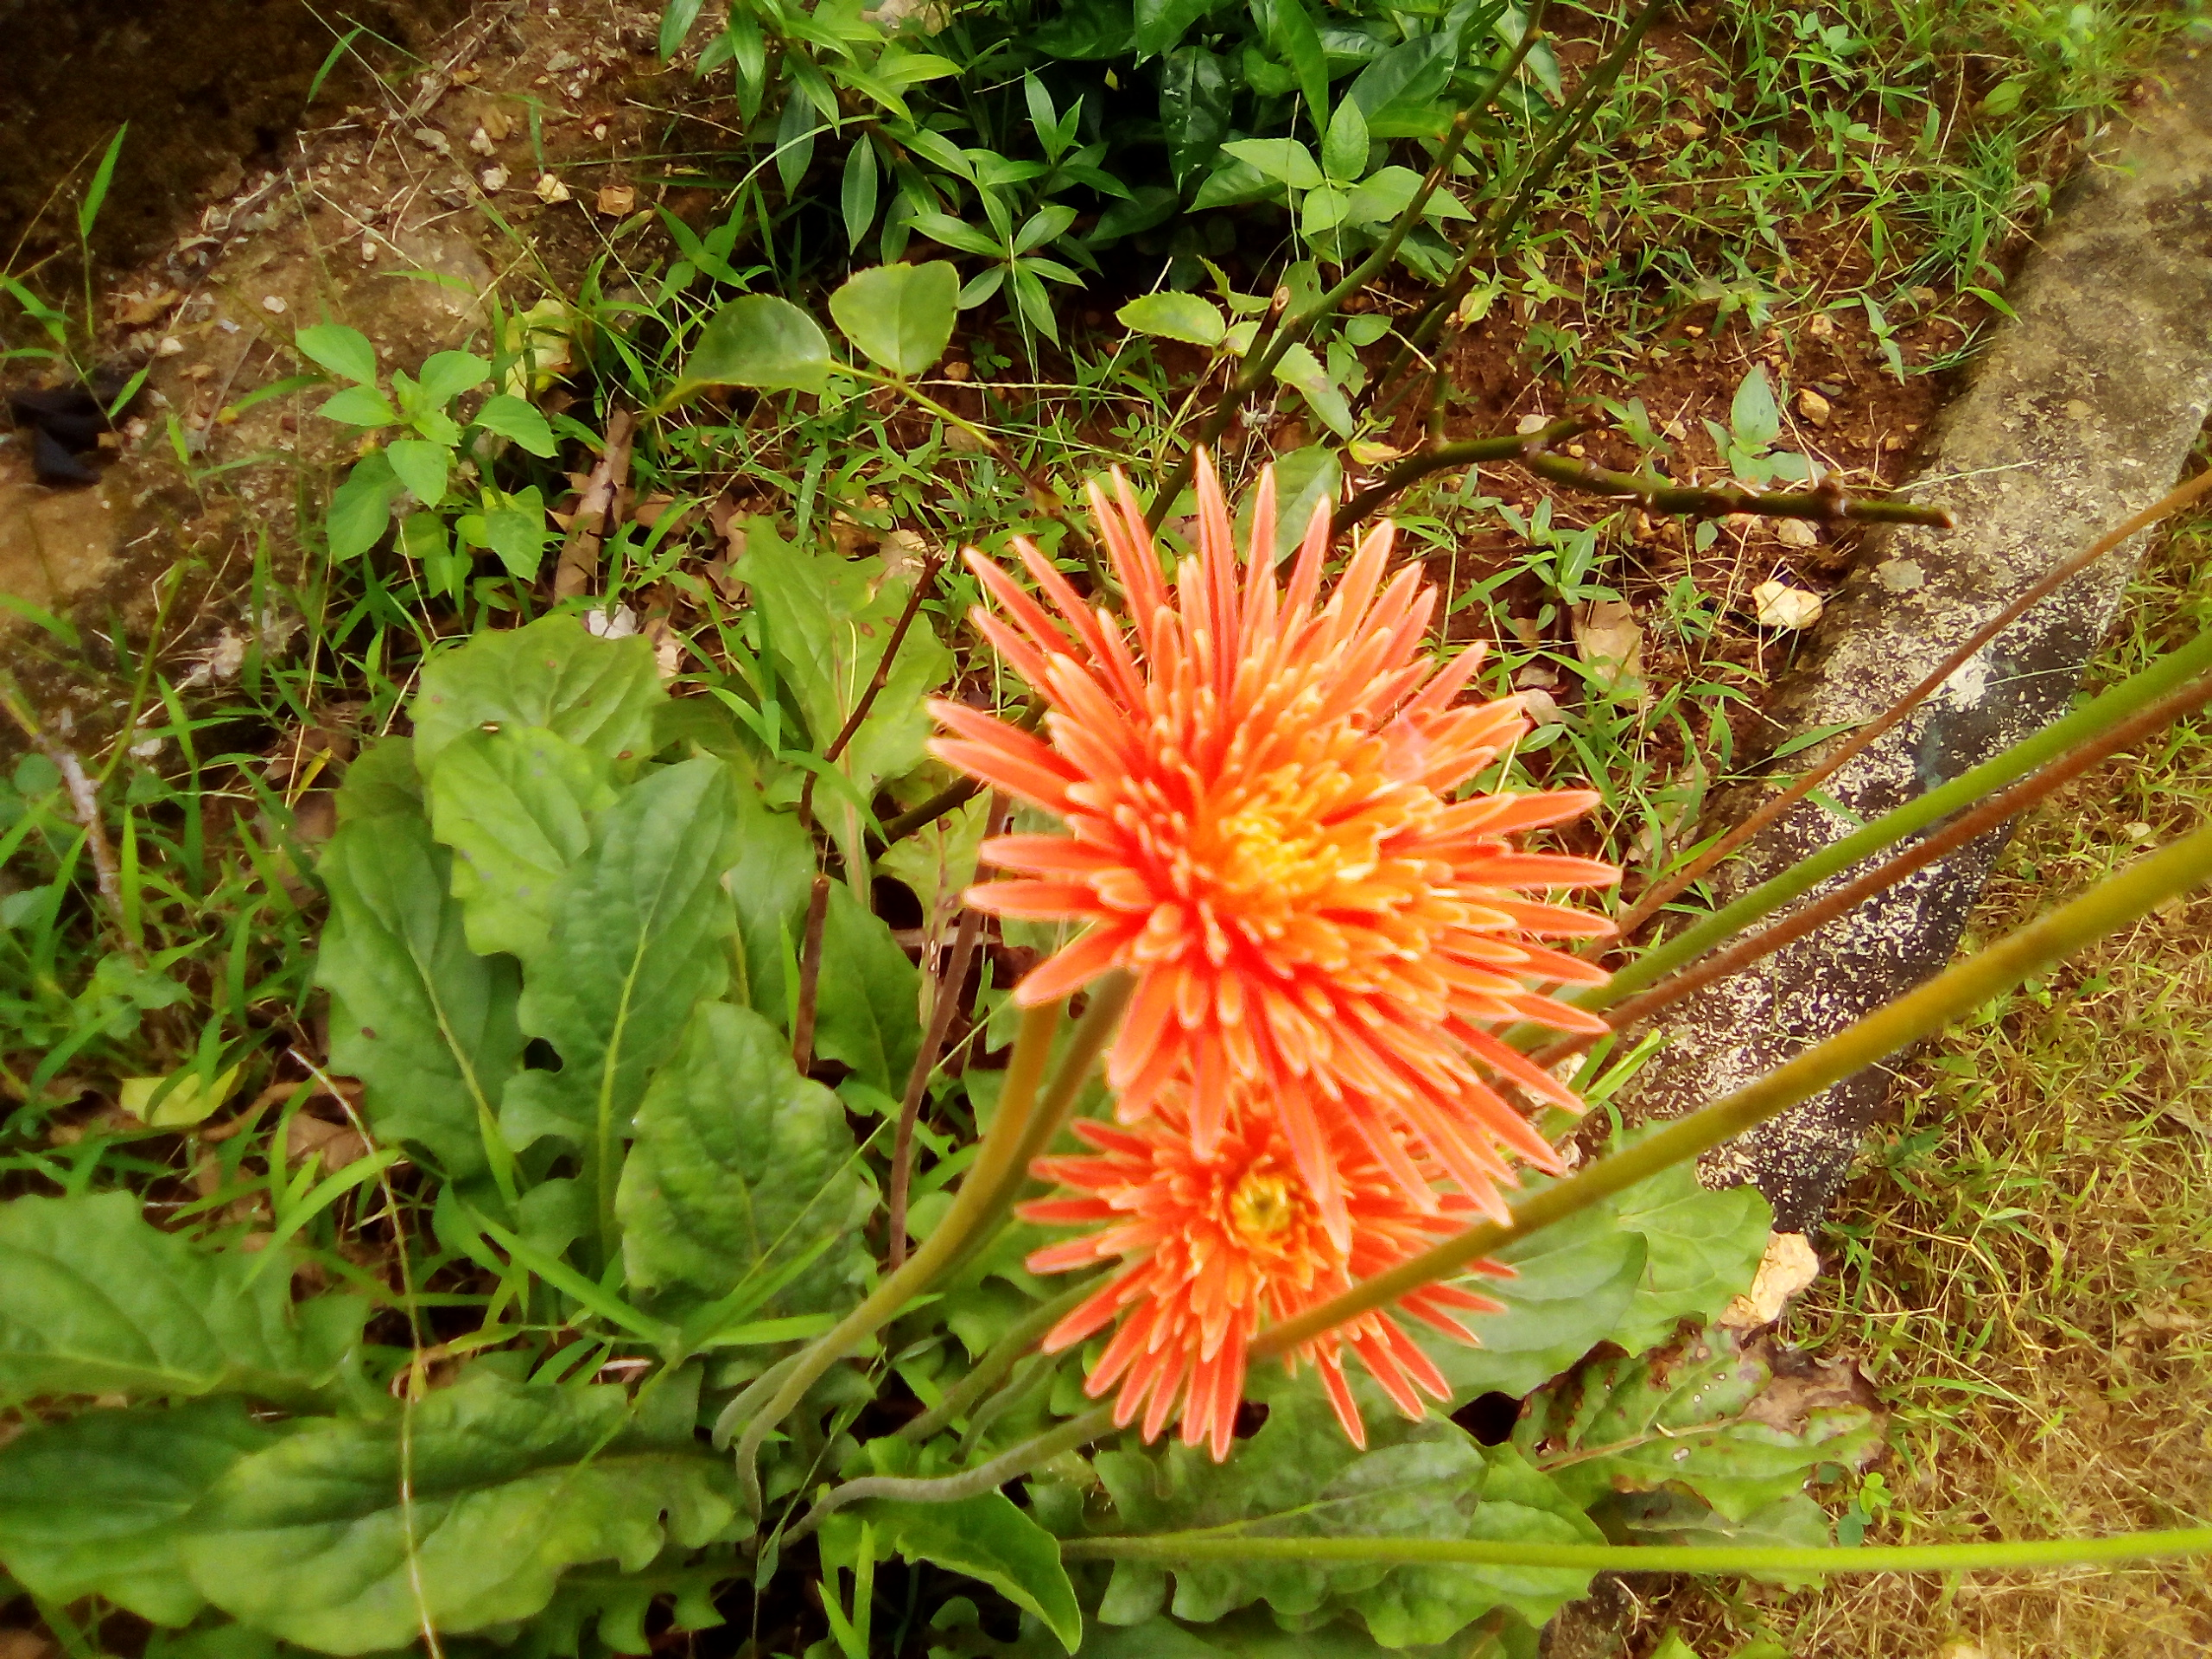ginimala: (928, 479, 1691, 1230), (981, 1060, 1561, 1516)
